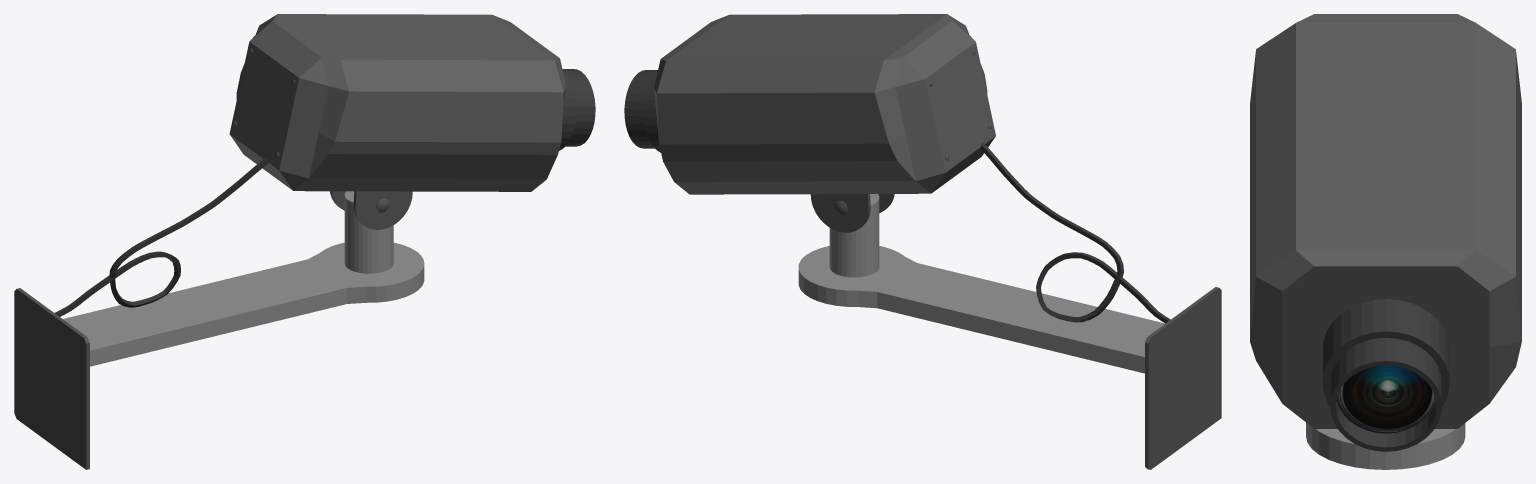
The model's file is Camera NEW.fbx.
3 renders of one model, left to right at view 1: azimuth 30°, elevation 25°; view 2: azimuth 150°, elevation 25°; view 3: azimuth 270°, elevation 25°, orthographic. The views are drawn at different scales.
Parts seen in each view (by area): view 1: Camera, Camera Stand.001, Camera Stand, Cable; view 2: Camera, Camera Stand.001, Camera Stand, Cable; view 3: Camera, Camera Stand.001.
Part boxes in pixels (x1,y1,x2,y2): Camera: (229, 14, 595, 191); Camera Stand.001: (63, 48, 424, 366); Camera Stand: (14, 191, 412, 469); Cable: (55, 158, 267, 316); Camera: (624, 14, 995, 194); Camera Stand.001: (798, 49, 1164, 373); Camera Stand: (810, 194, 1221, 469); Cable: (980, 142, 1170, 323); Camera: (1250, 14, 1521, 451); Camera Stand.001: (1306, 422, 1465, 469).
Bounding box in the file's own units: 860 × 524 × 262.
